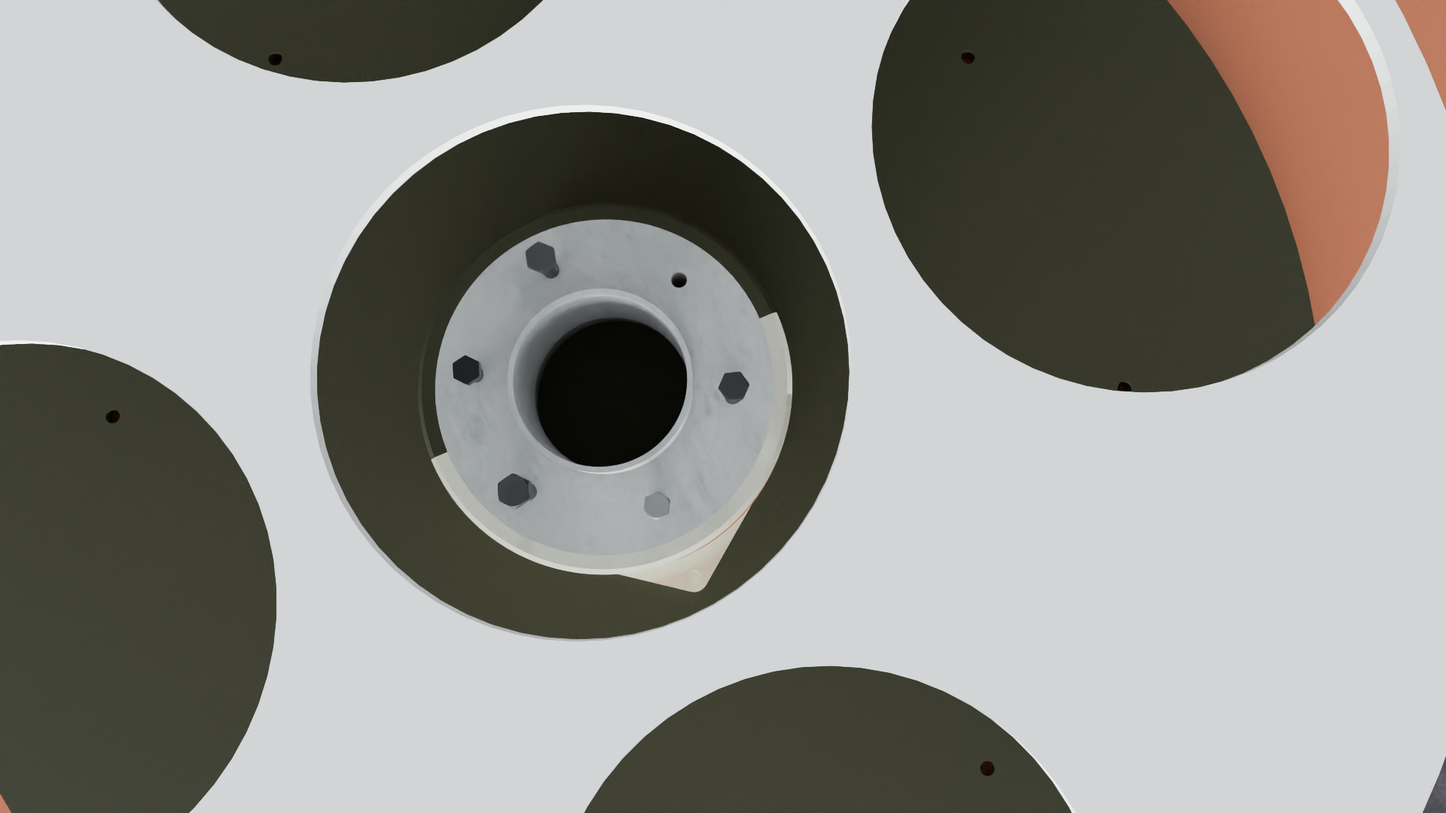bolt: (498, 473, 529, 509), (526, 242, 555, 273), (718, 372, 749, 400), (453, 355, 480, 385), (644, 492, 670, 520)
